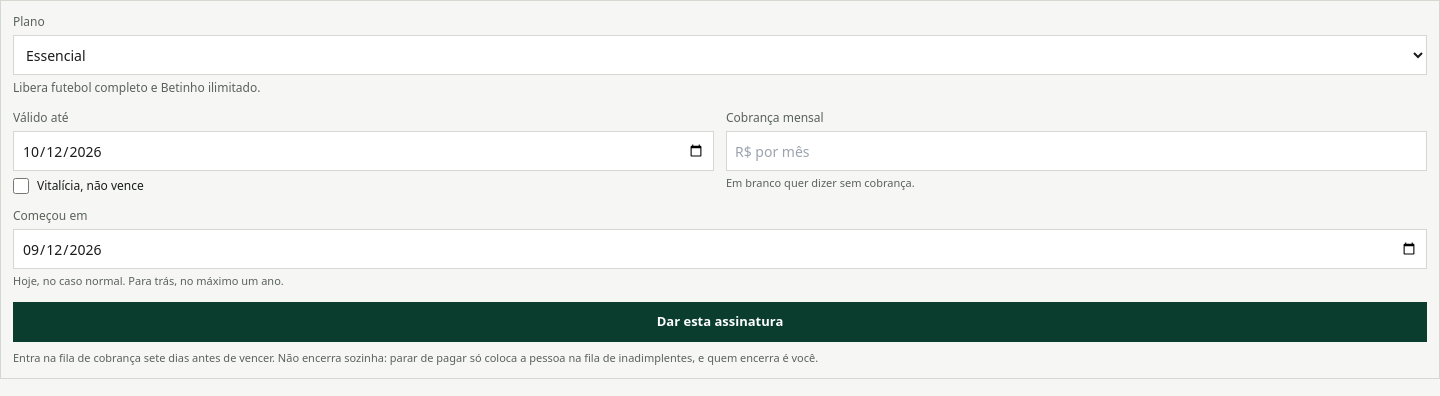
Test case: DarAssinatura › sem data, não dá para conceder
Clear the date field named "Assinatura manual válida até" at (364, 151), box x1=13 y1=131 x2=714 y2=171
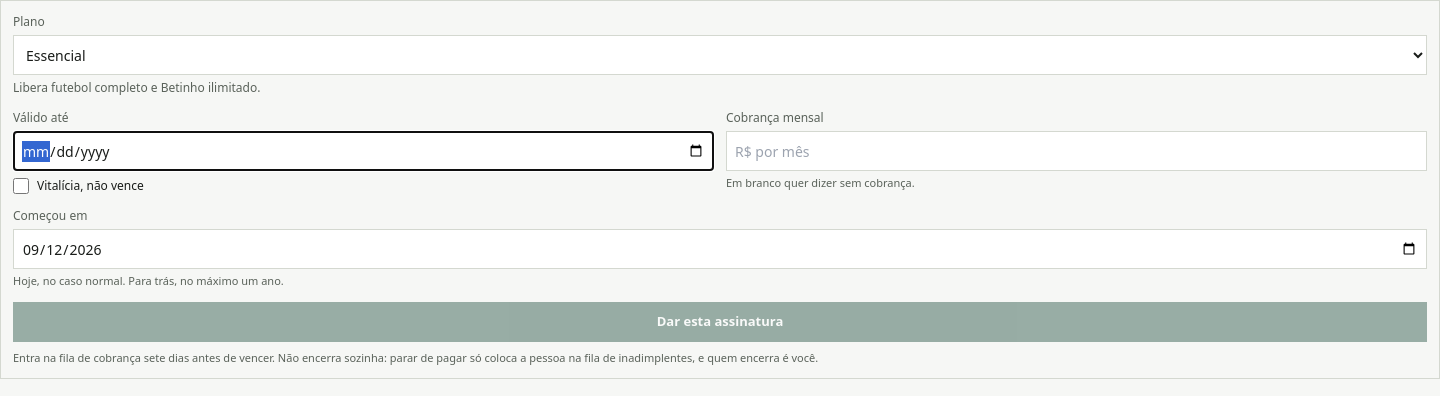
Expected: the button "Dar esta assinatura" is disabled, x1=13 y1=302 x2=1427 y2=342
